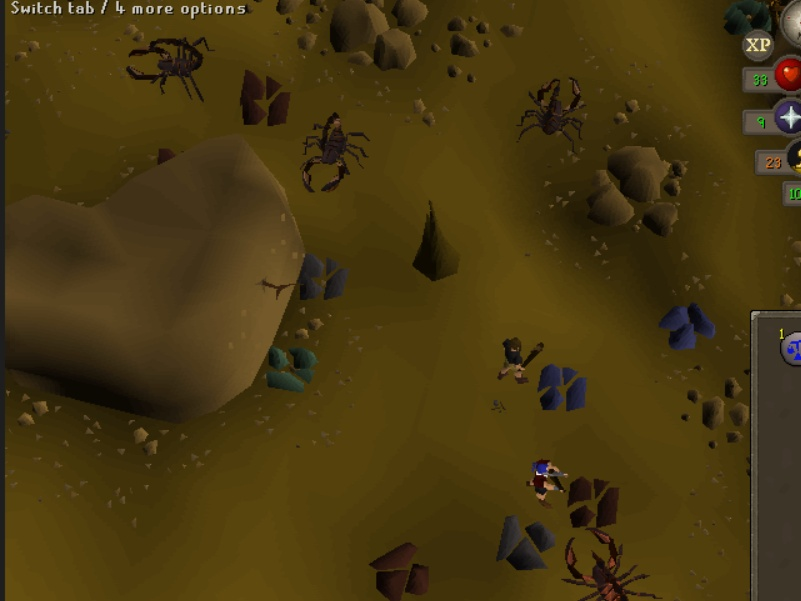adamant: (261, 341, 323, 395), (717, 1, 780, 34)
iron: (236, 66, 300, 129), (563, 468, 627, 531), (370, 538, 434, 601)
mithril: (534, 358, 596, 416), (657, 296, 719, 354)
